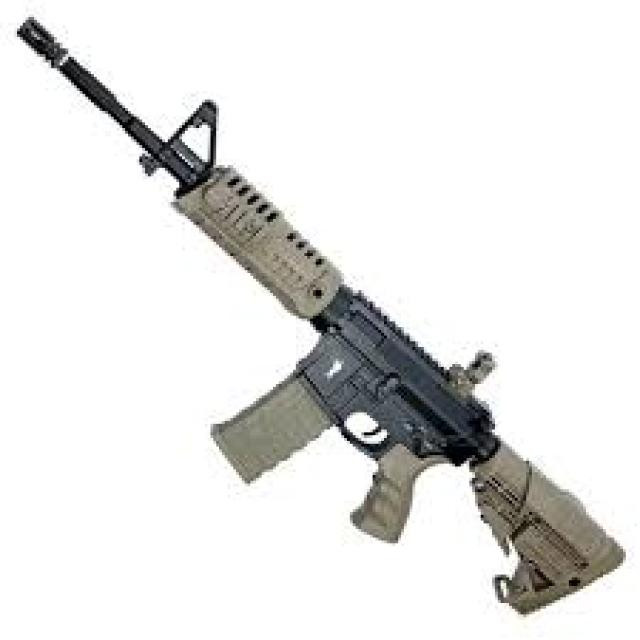rifle: (14, 12, 636, 635)
